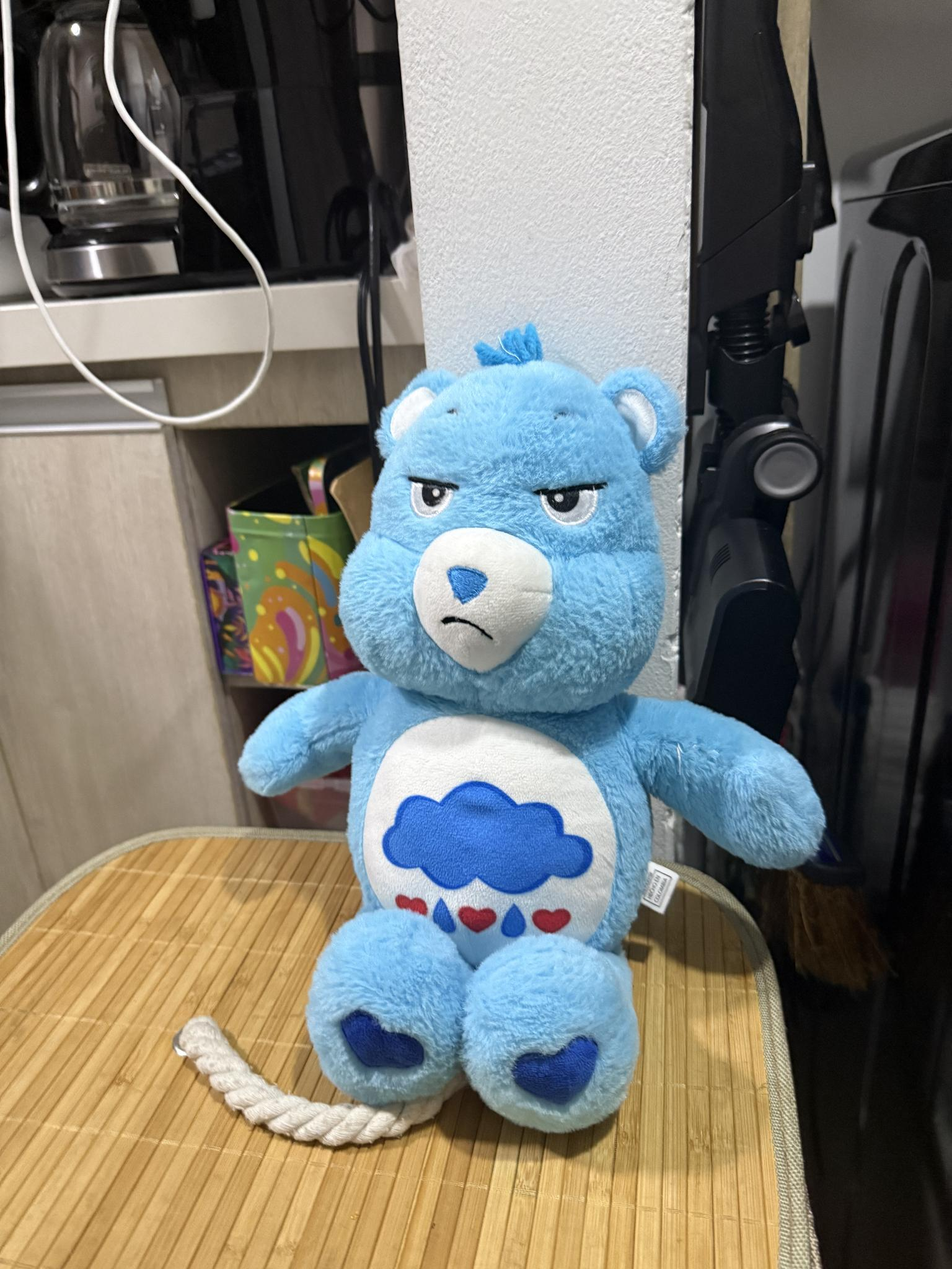peluche_Juan Jose: (238, 331, 833, 1137)
